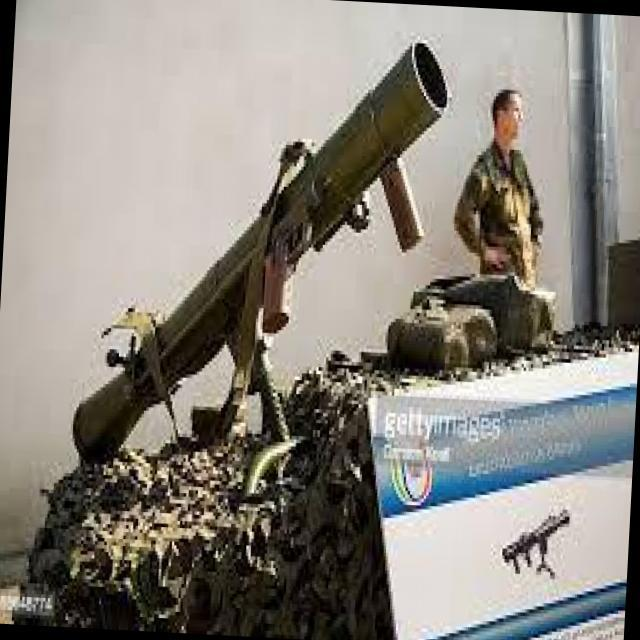rocket: (72, 23, 450, 478)
